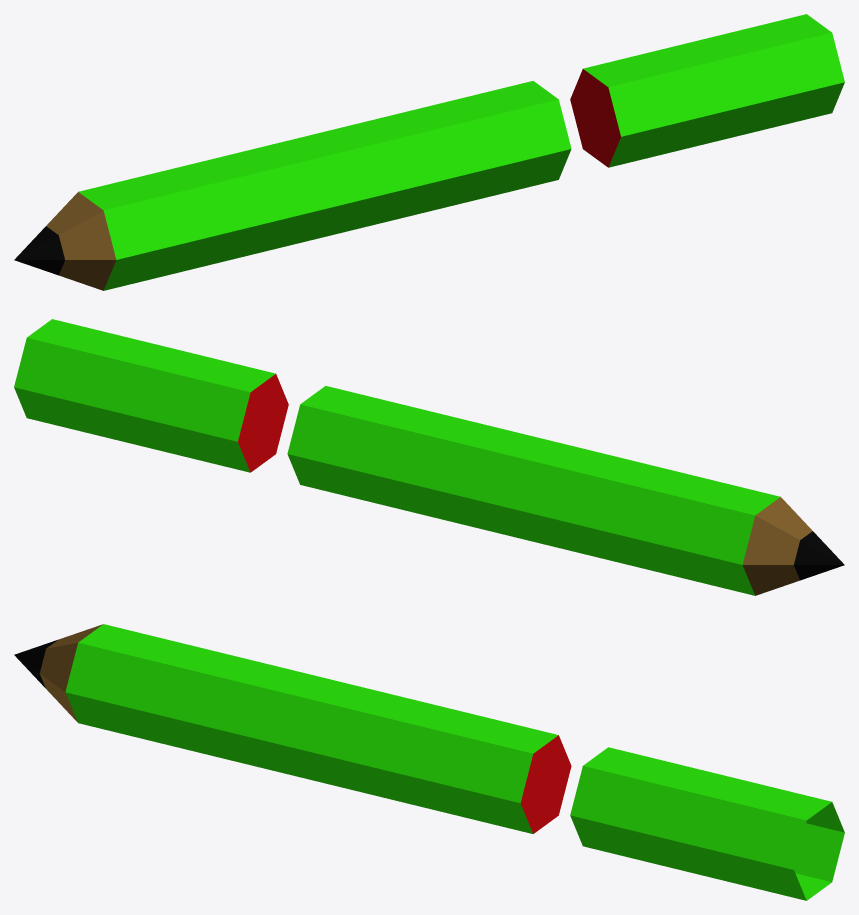
Rendered from Pen (1).fbx.
3 views of the same model, one above another, from view 1: azimuth 30°, elevation 25°; view 2: azimuth 150°, elevation 25°; view 3: azimuth 330°, elevation 25° (orthographic).
Parts seen in each view (by area): view 1: Cube; view 2: Cube; view 3: Cube.
Part boxes in pixels (bbox=[...]): Cube: bbox=[14, 14, 844, 290]; Cube: bbox=[14, 319, 844, 595]; Cube: bbox=[14, 624, 844, 900].
Size of the model in its own units: 2095 by 200 by 230.
